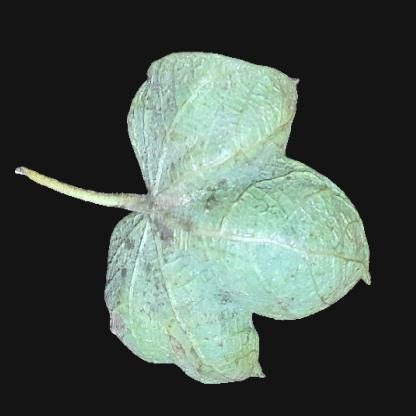curl_stage2: (211, 187, 337, 311), (183, 75, 283, 166), (174, 316, 250, 372)
sooty: (109, 216, 172, 328), (152, 164, 194, 260)
